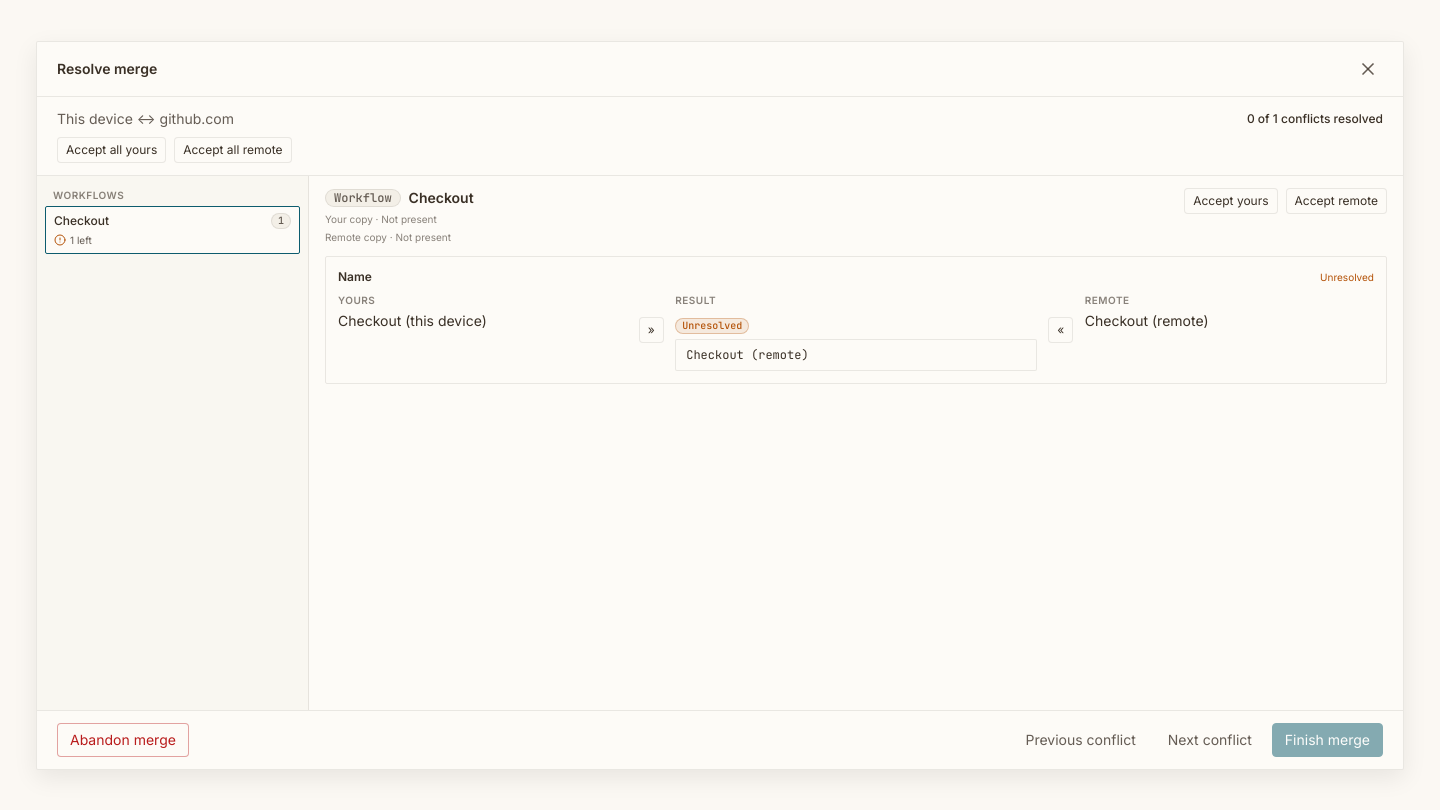
it: MergeView › takes a side into the result, marks the row resolved and counts it
The width and height of the screenshot is (1440, 810).
Click the button named "Take your copy of Name in Checkout". click: (651, 330)
box: x1=639 y1=316 x2=664 y2=342
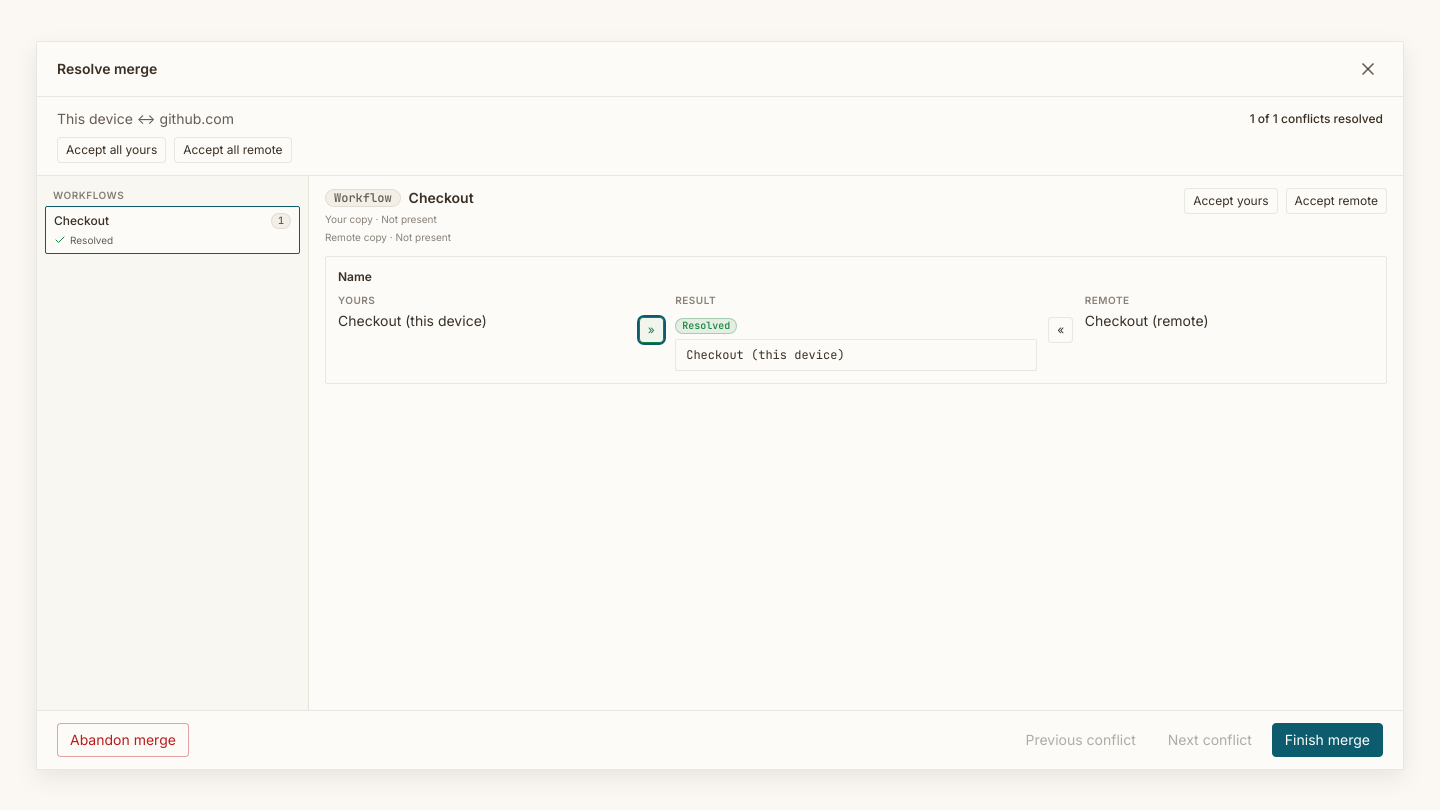
Check: the text "Resolved" below "Result" is shown, box x1=682 y1=318 x2=730 y2=332
Check: the message reads "1 of 1 conflicts resolved", box x1=1250 y1=110 x2=1383 y2=126
Check: the field named "Result for Name in Checkout" holds "Checkout (this device)", box x1=675 y1=338 x2=1037 y2=370
